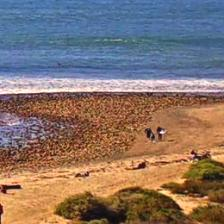surfer: (57, 63, 62, 66)
